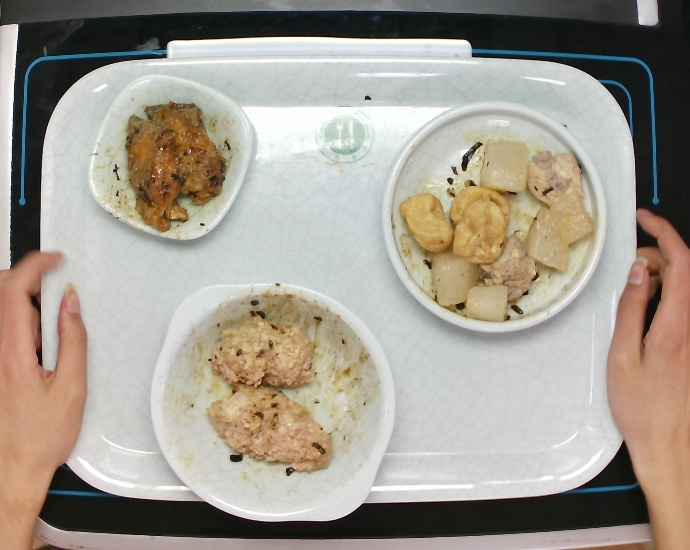JYsf-Shuang_Er_Wan: (139, 275, 397, 532)
JYsf-Si_Fang_Die: (78, 67, 264, 244)
JYsf-Xiao_Yuan_Pan: (376, 96, 614, 340)
